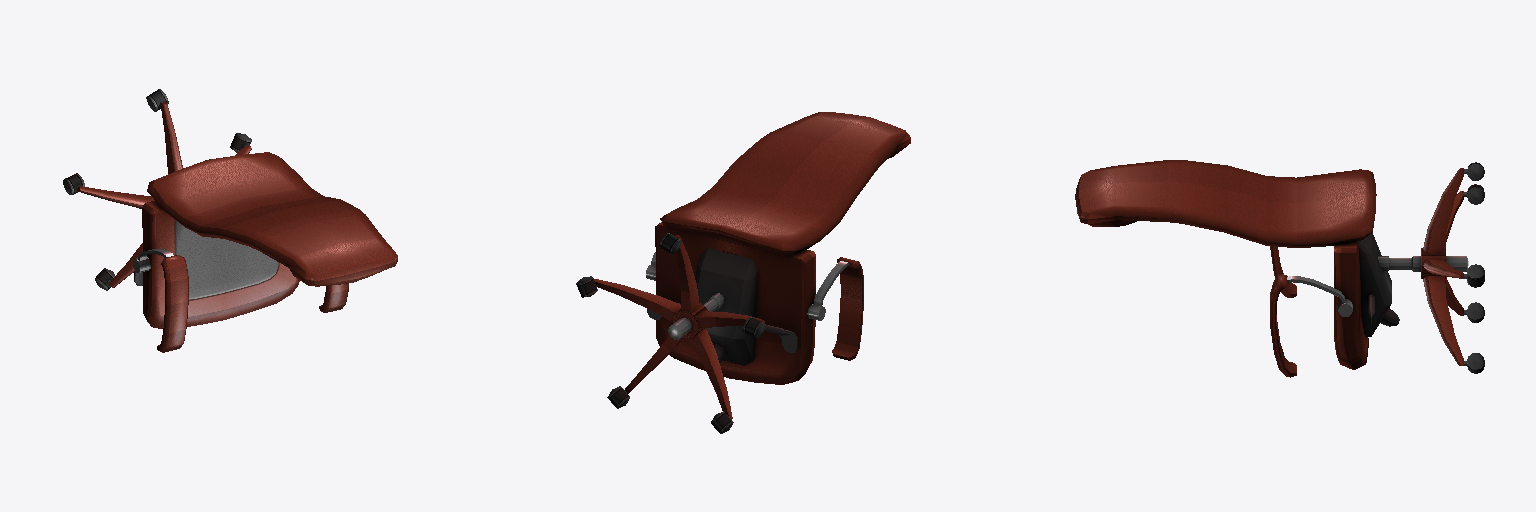
3 views of the same model, side by side, from view 1: azimuth 30°, elevation 25°; view 2: azimuth 150°, elevation 25°; view 3: azimuth 270°, elevation 25° (orthographic).
Visible parts, largest first — view 1: DeskChair; view 2: DeskChair; view 3: DeskChair.
Part boxes in pixels (bbox=[...]): DeskChair: bbox=[63, 89, 397, 352]; DeskChair: bbox=[576, 112, 910, 433]; DeskChair: bbox=[1075, 160, 1484, 377].
Size of the model in its own units: 64.48 by 62.28 by 123.
Materials: 1 (1 with a texture image).